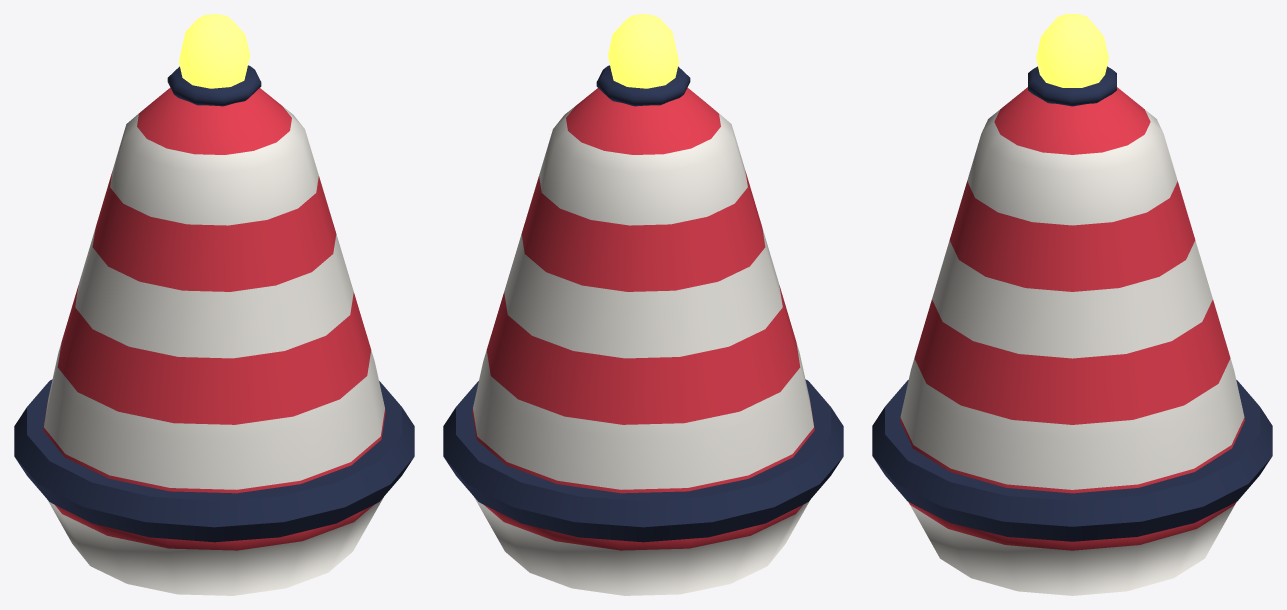
The model's file is W1_Buoy_A.fbx.
3 views of the same model, side by side, from view 1: azimuth 30°, elevation 25°; view 2: azimuth 150°, elevation 25°; view 3: azimuth 270°, elevation 25° (orthographic).
Visible parts, largest first — view 1: W1_Buoy_A; view 2: W1_Buoy_A; view 3: W1_Buoy_A.
Boxes of the visible parts, <box> form: W1_Buoy_A: <box>14,14,414,595</box>; W1_Buoy_A: <box>443,14,843,595</box>; W1_Buoy_A: <box>872,14,1272,595</box>.
Size of the model in its own units: 1.56 by 2.2 by 1.54.
